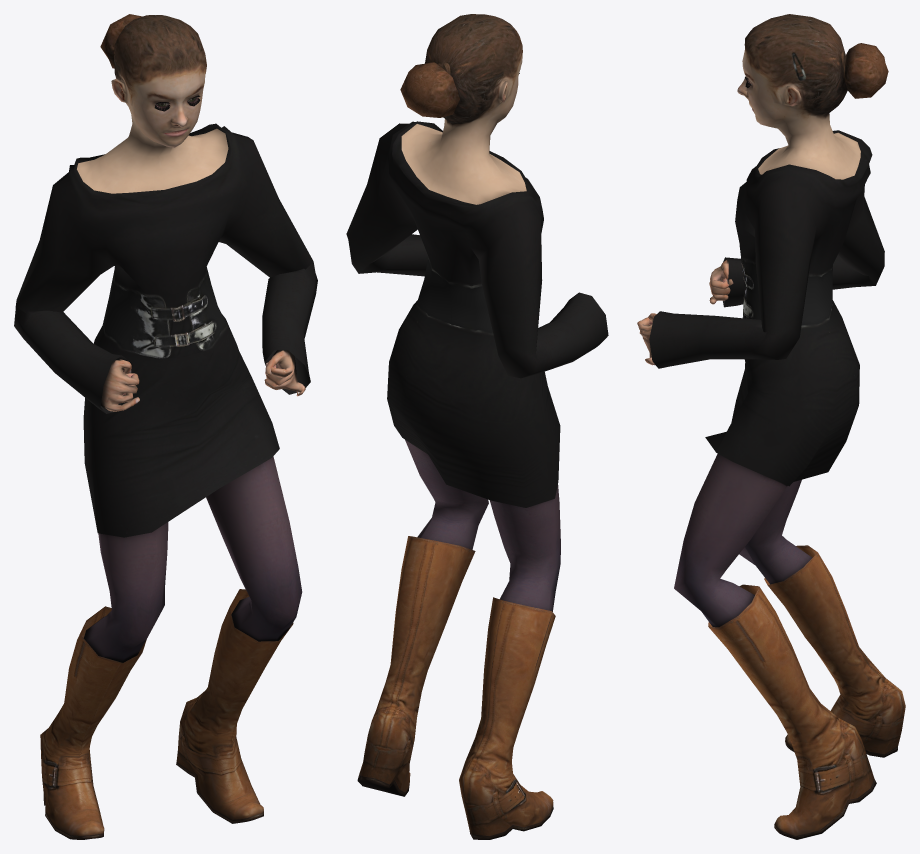
Rendered from Ana_Model_000034.obj.
3 views of the same model, side by side, from view 1: azimuth 30°, elevation 25°; view 2: azimuth 150°, elevation 25°; view 3: azimuth 270°, elevation 25° (orthographic). The views are drawn at different scales.
Parts seen in each view (by area): view 1: Ana_Cube.004; view 2: Ana_Cube.004; view 3: Ana_Cube.004.
Part boxes in pixels (x1,y1,x2,y2): Ana_Cube.004: (14, 14, 317, 839); Ana_Cube.004: (346, 14, 608, 839); Ana_Cube.004: (637, 14, 905, 839).
Bounding box in the file's own units: 0.6075 × 1.89 × 0.5925.
1 material, 1 textured.
